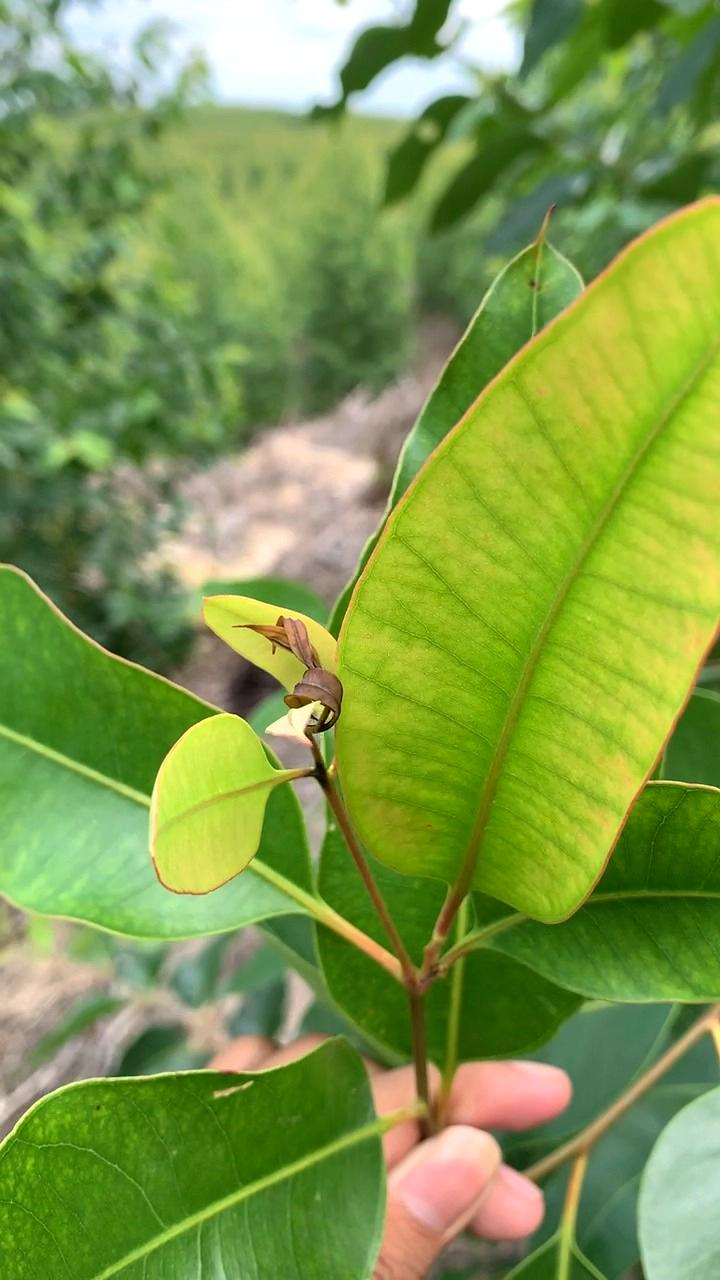Helopeltis-Withered Sprout: (231, 576, 347, 765)
